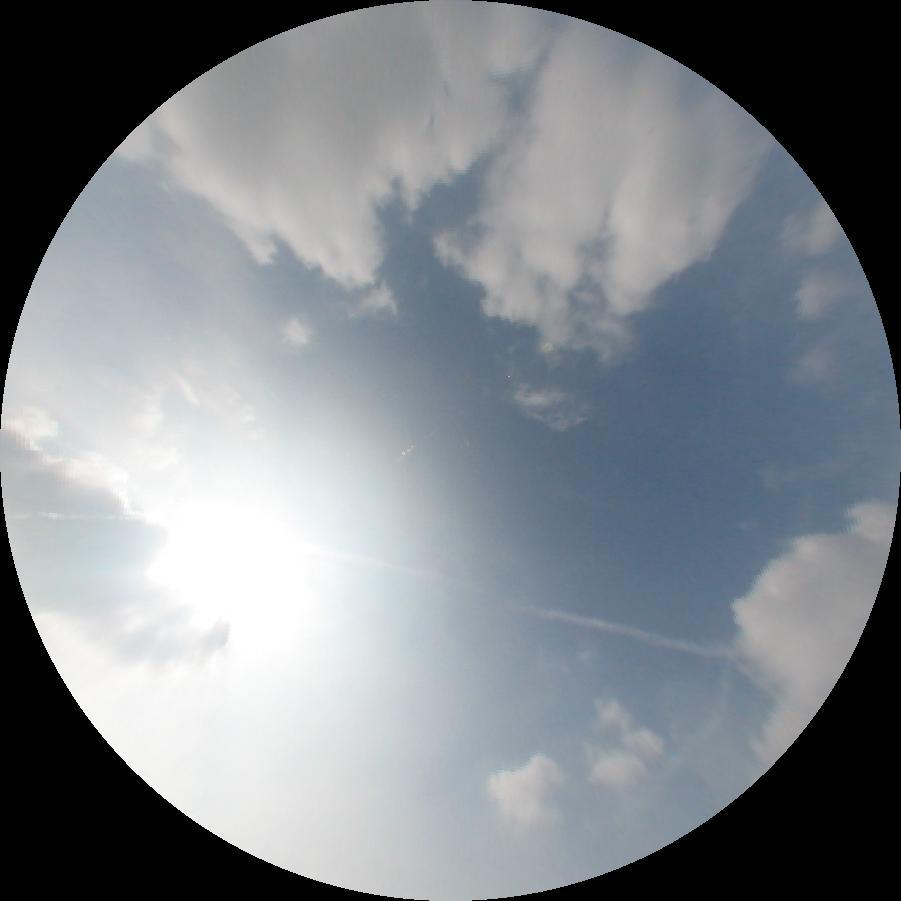contrail veryold: (320, 544, 740, 672)
sun: (135, 479, 334, 664)
